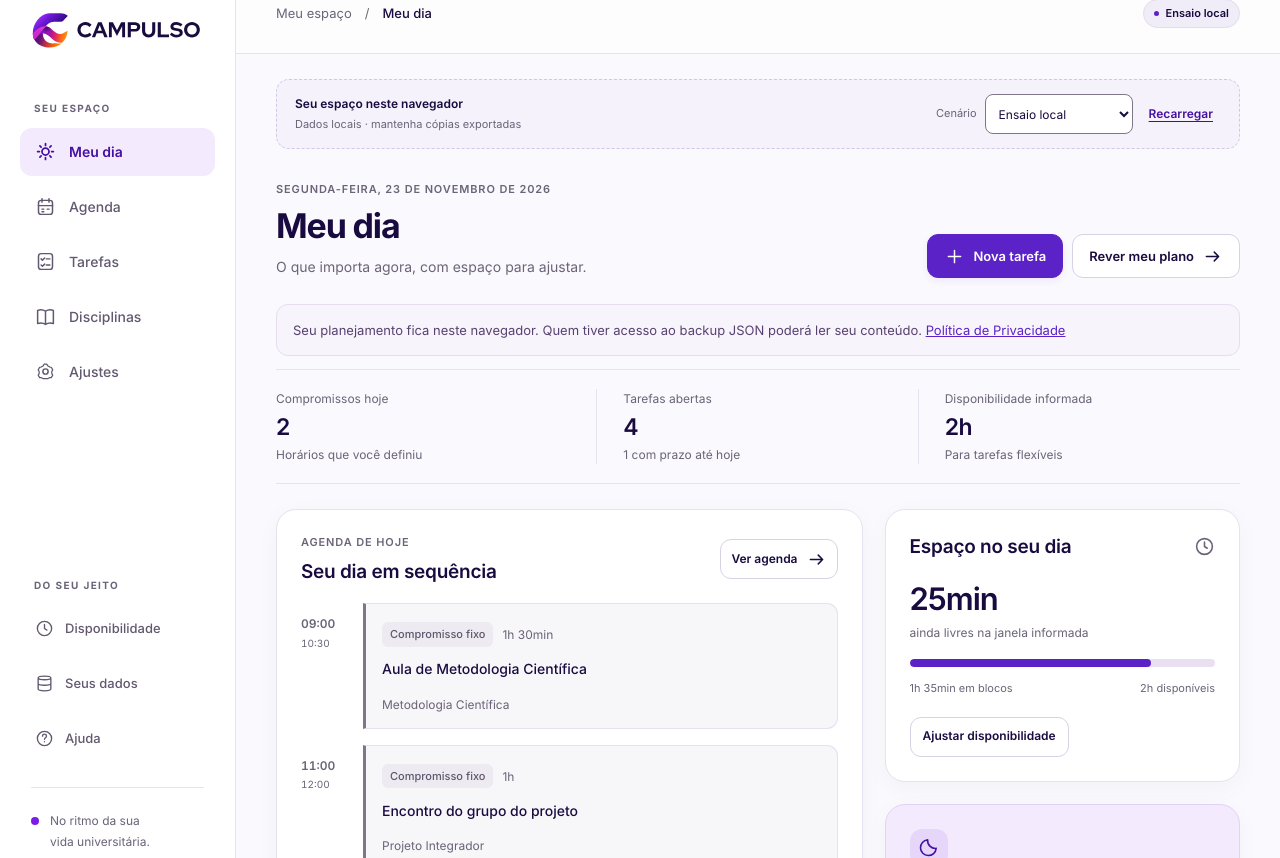
Scenario: Integração dos componentes React em DOM simulado (não é homologação de navegador) › descarta prévia sem escrita e aplica Modo leve sem alterar prazos, compromissos ou progresso
Click the button "Rever meu plano" at (1156, 256), box [1072,234,1240,278]
(page scrolled)
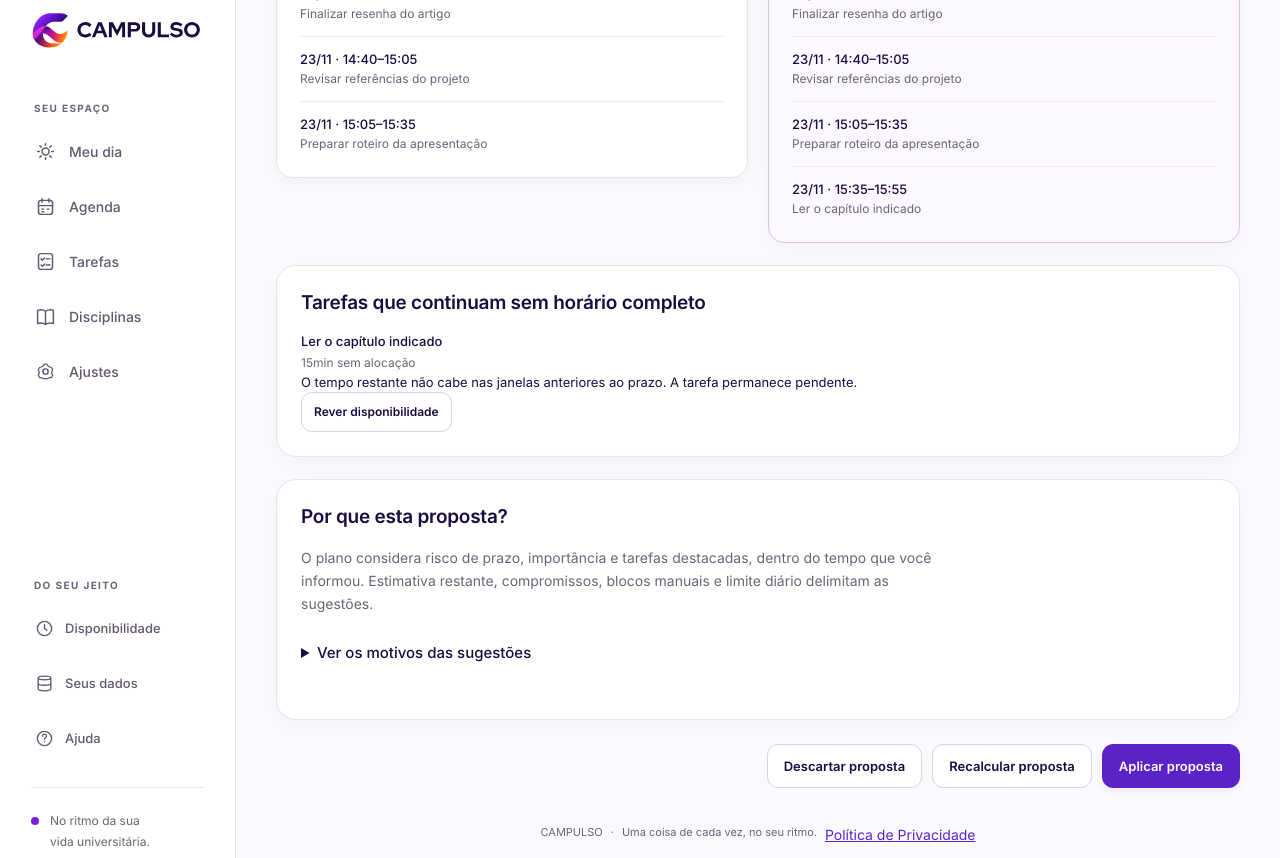
Click the button "Descartar proposta" at (844, 766), box [767,744,922,788]
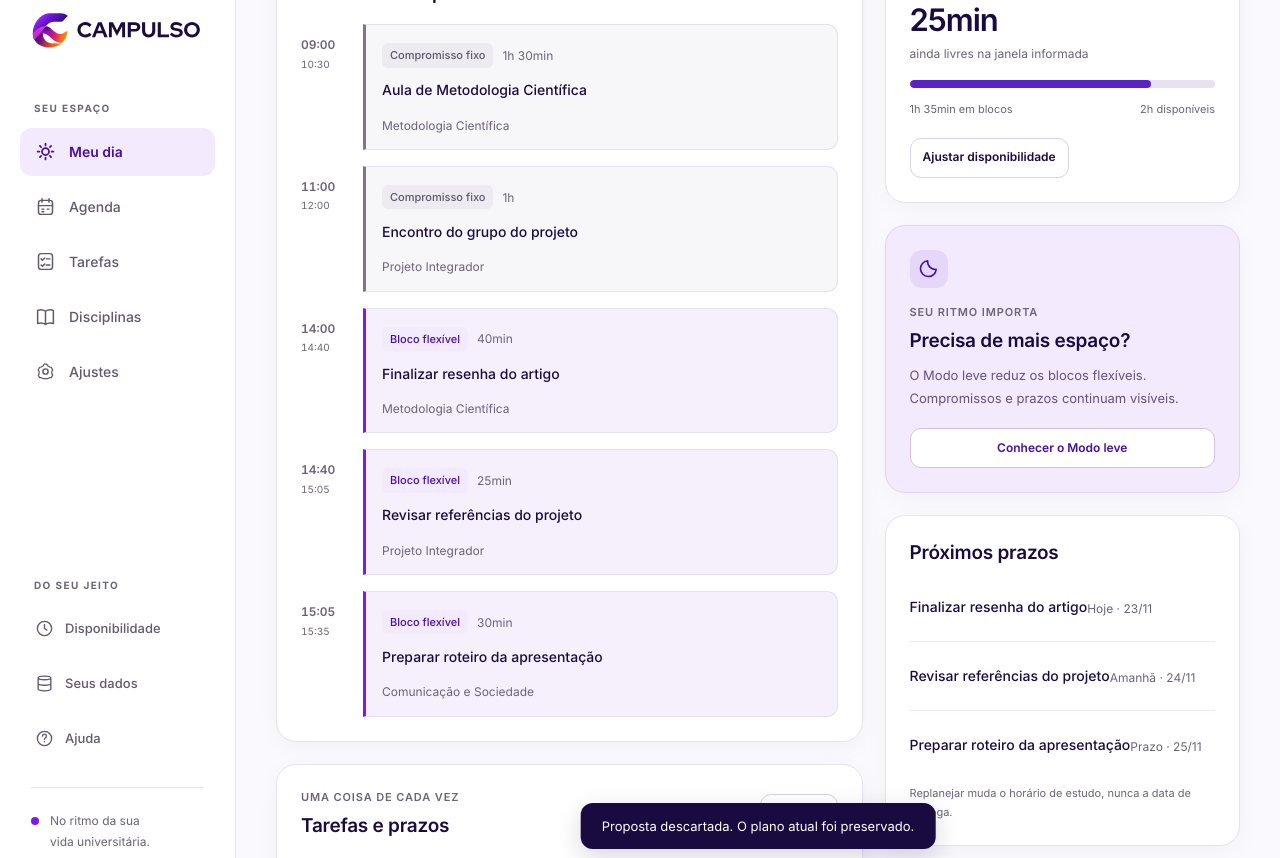
Click the button "Conhecer o Modo leve" at (1062, 448), box [910,428,1215,468]
(page scrolled)
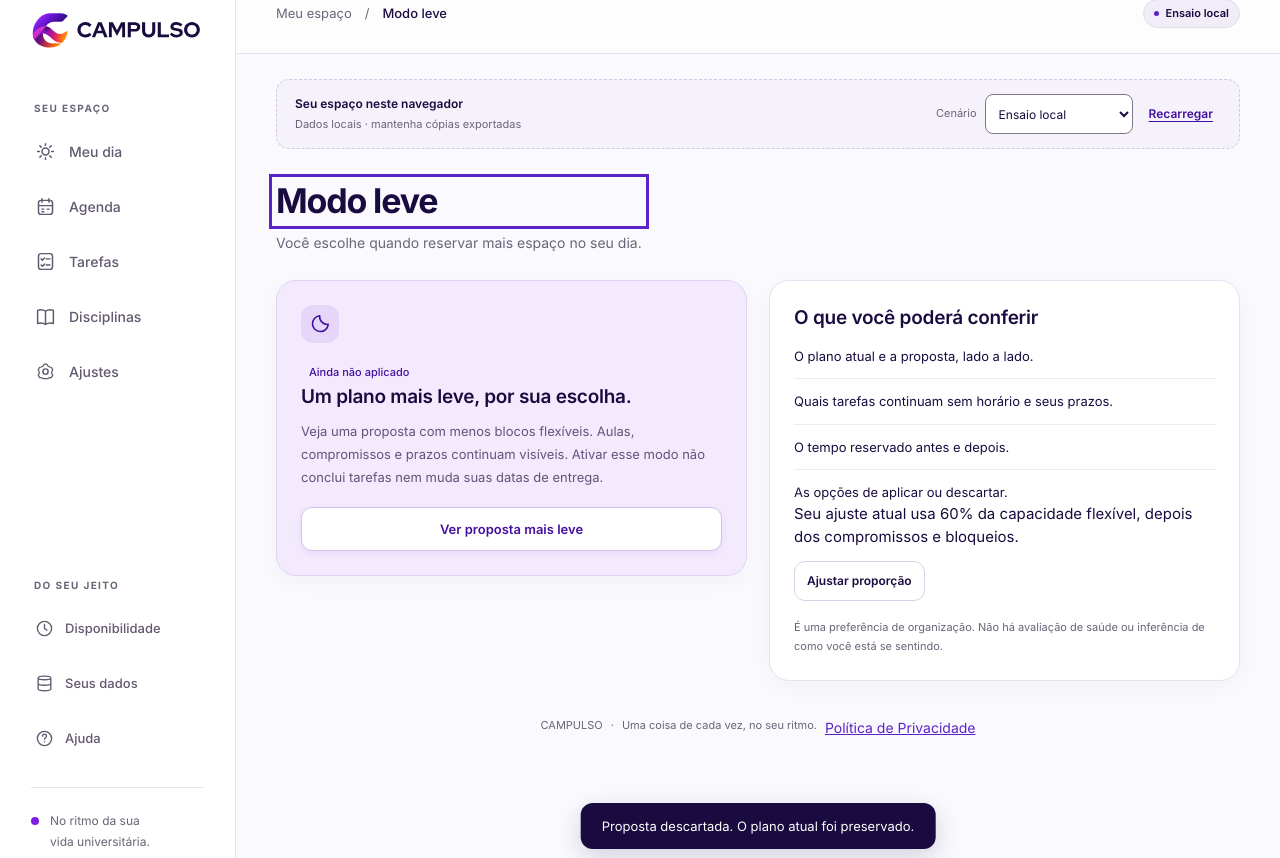
Click the button "Ver proposta mais leve" at (512, 529), box [301,507,722,551]
(page scrolled)
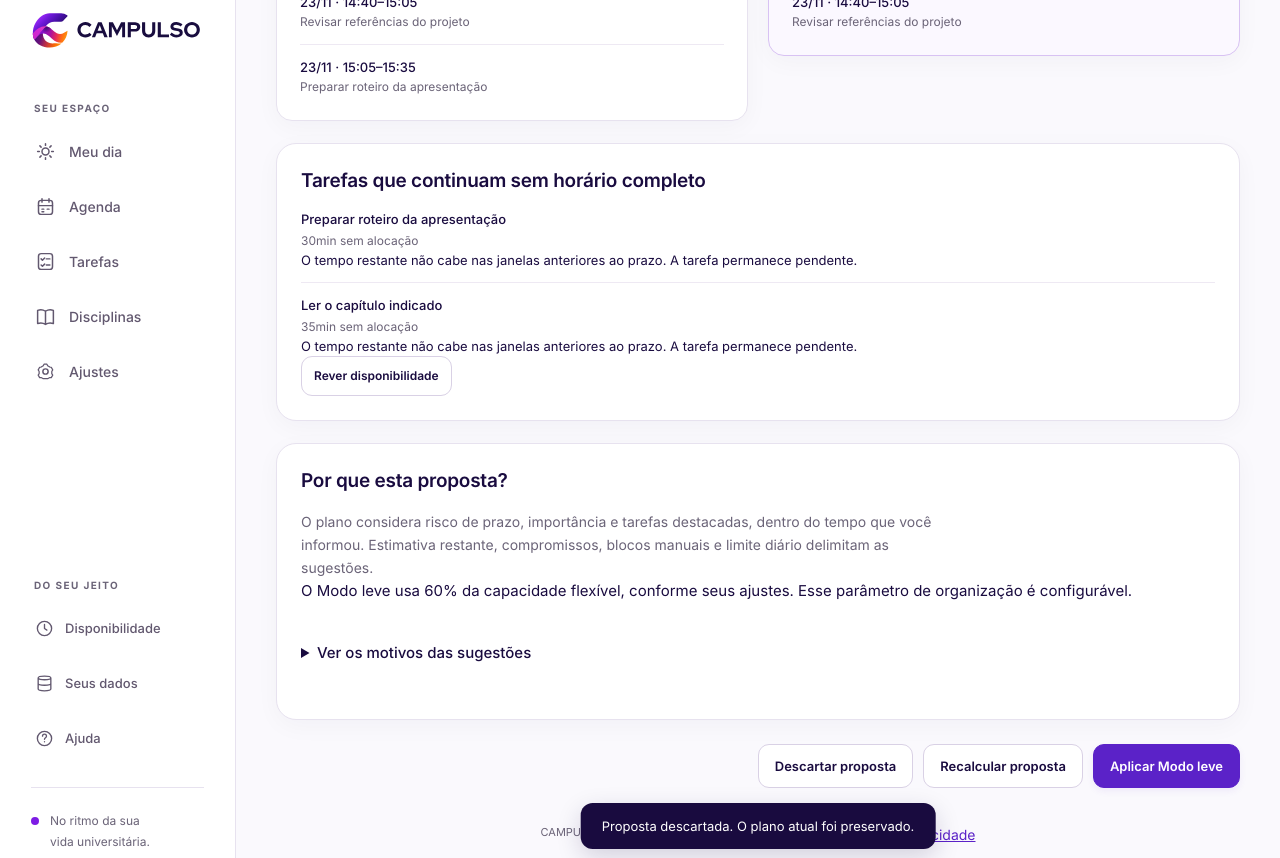
Click the button "Aplicar Modo leve" at (1166, 766), box [1093,744,1240,788]
(page scrolled)
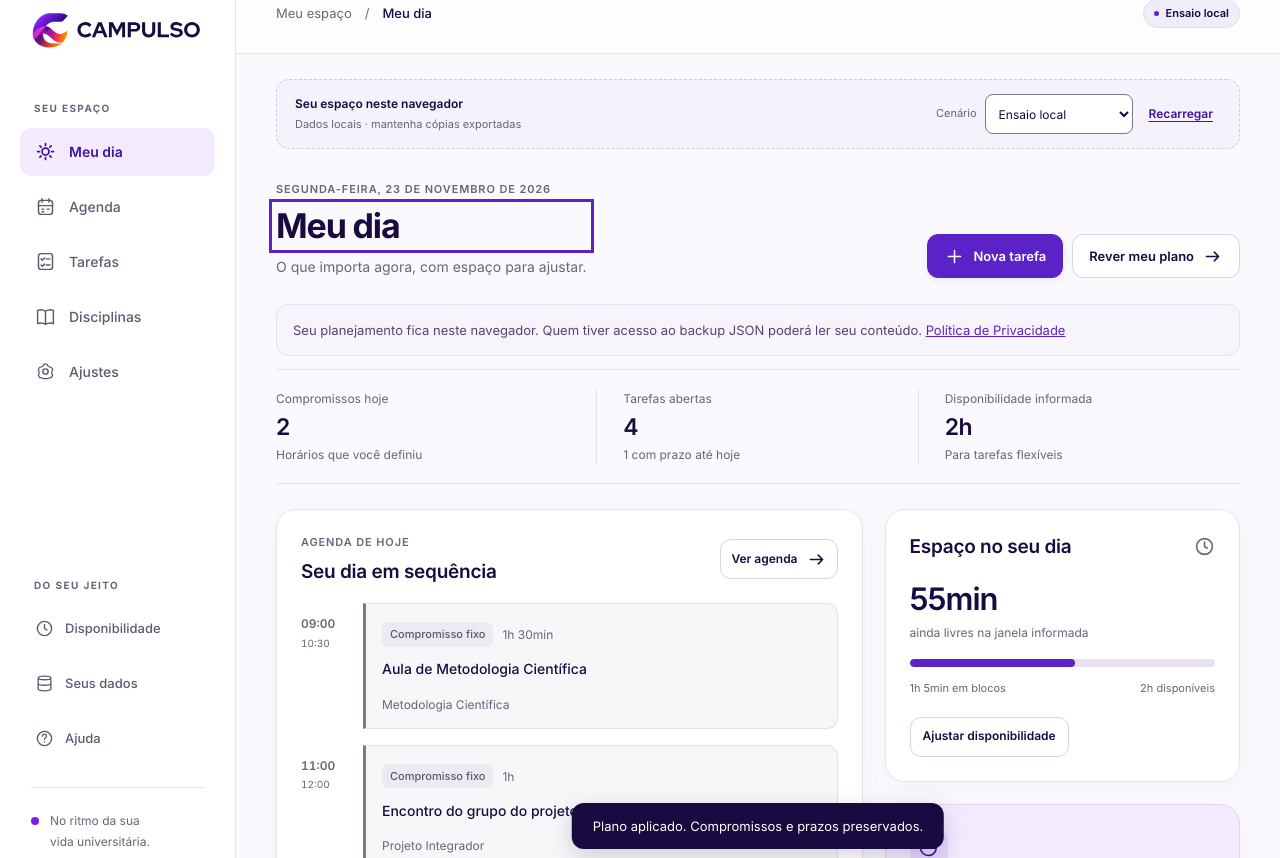
Click the button "Rever meu plano" at (1156, 256), box [1072,234,1240,278]
(page scrolled)
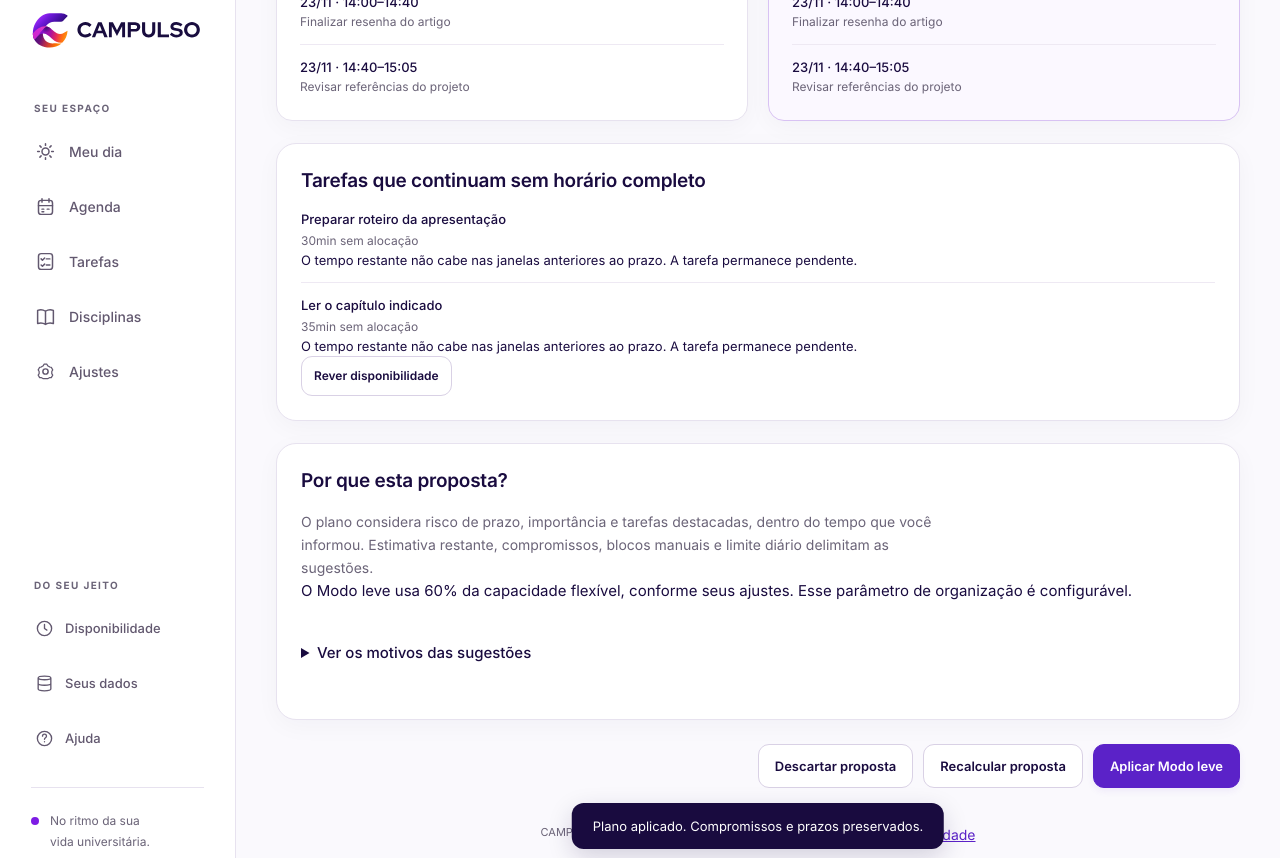
Expected: the button "Aplicar Modo leve" is shown, [1093,744,1240,788]
